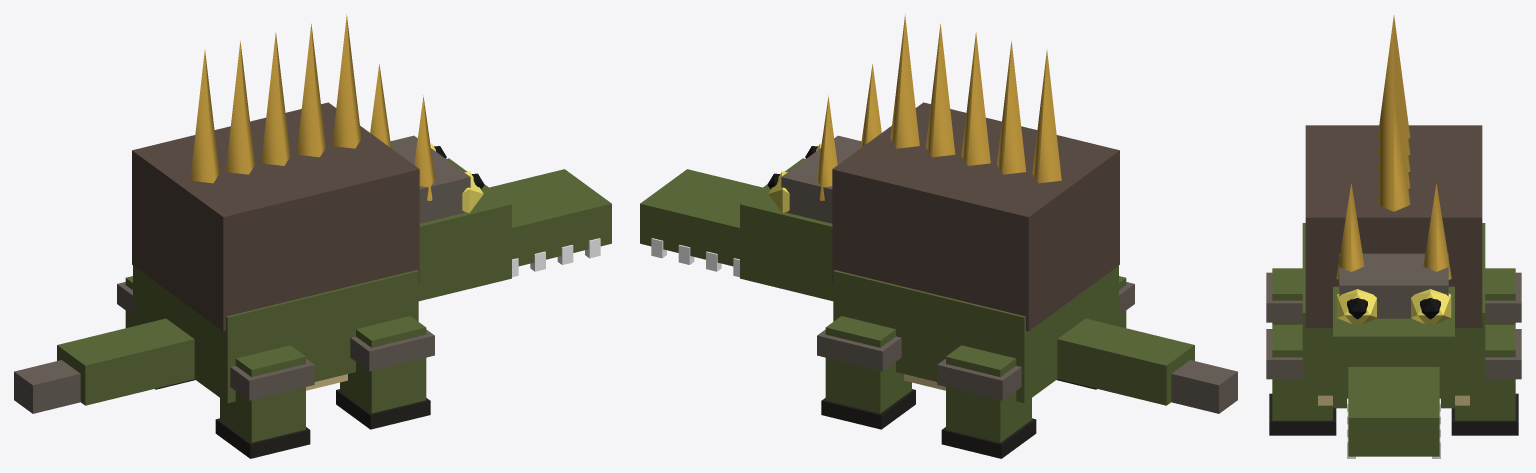
File: level2.glb
The picture shows the model from 3 angles, left to right: view 1: azimuth 30°, elevation 25°; view 2: azimuth 150°, elevation 25°; view 3: azimuth 270°, elevation 25°; orthographic projection. The views are drawn at different scales.
Bounding box in the file's own units: 3.1 × 1.88 × 1.26.
